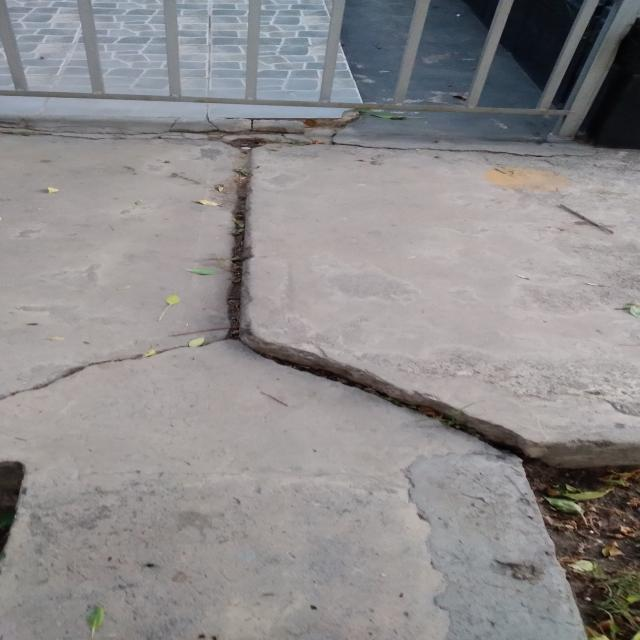bump: (238, 320, 557, 468)
